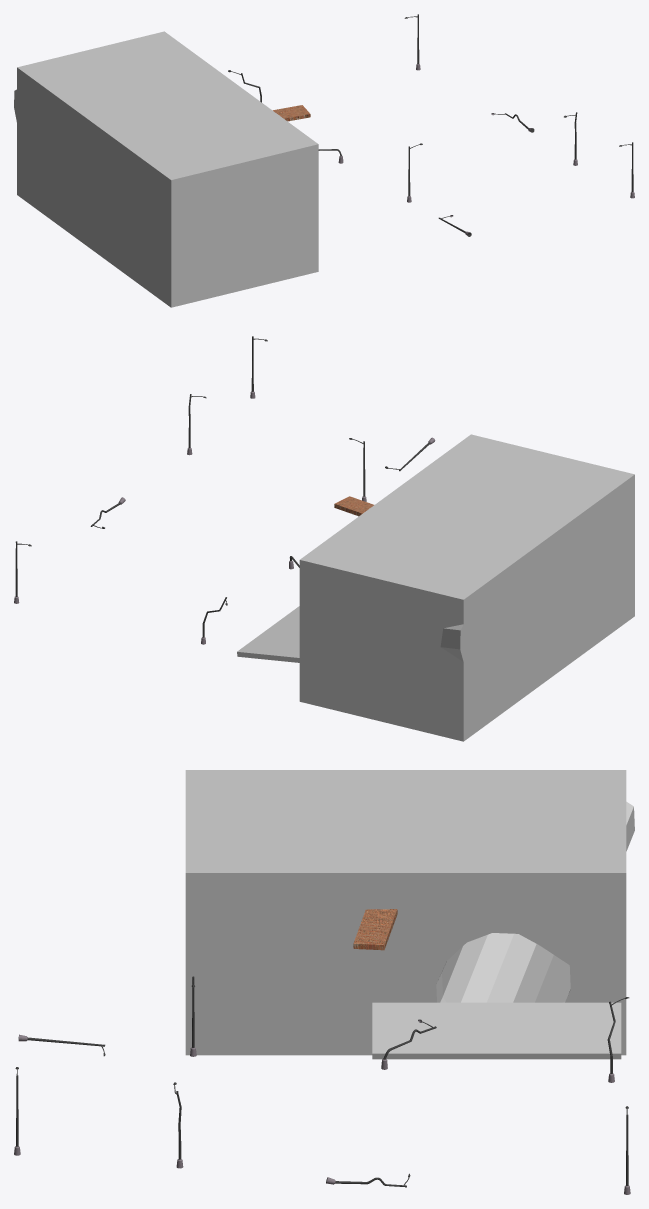
The model's file is Lamp and walls.fbx.
3 views of the same model, one above another, from view 1: azimuth 30°, elevation 25°; view 2: azimuth 150°, elevation 25°; view 3: azimuth 270°, elevation 25° (orthographic). The views are drawn at different scales.
Parts seen in each view (by area): view 1: main wall turnnel; view 2: main wall turnnel, Floor filler; view 3: main wall turnnel, Floor filler, Small FIller second floor.
Boxes of the visible parts, left/top/right/bottom form: main wall turnnel: left=14, top=31, right=318, bottom=307; main wall turnnel: left=299, top=434, right=634, bottom=741; Floor filler: left=237, top=606, right=299, bottom=662; main wall turnnel: left=185, top=770, right=634, bottom=1055; Floor filler: left=372, top=1002, right=621, bottom=1059; Small FIller second floor: left=353, top=909, right=397, bottom=950.
Bounding box in the file's own units: 6961 × 2055 × 6342.
